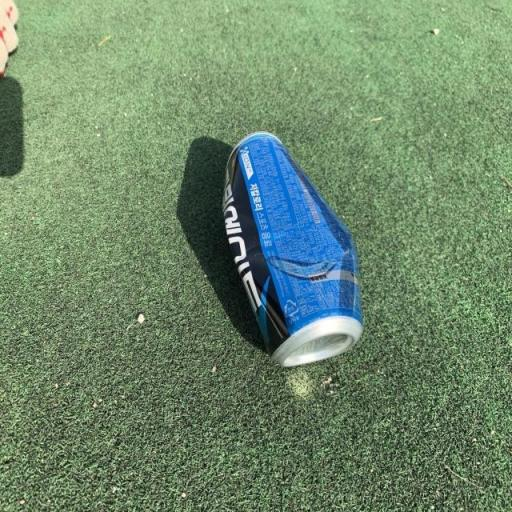metal: (208, 110, 385, 408)
